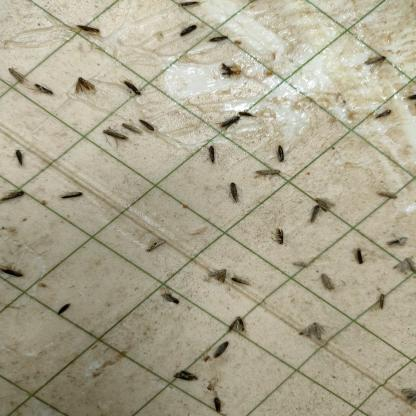prays_oleae: (360, 104, 395, 143), (60, 182, 96, 216), (0, 255, 28, 292), (0, 182, 30, 215), (28, 77, 59, 108), (205, 254, 232, 287), (340, 242, 372, 269), (73, 70, 98, 104), (302, 194, 326, 228), (102, 127, 132, 154), (223, 180, 250, 210), (6, 62, 31, 94), (166, 366, 200, 389), (232, 260, 255, 293), (161, 282, 182, 317), (370, 186, 396, 214), (364, 49, 392, 74), (292, 252, 313, 285), (316, 268, 340, 296), (147, 228, 168, 259), (381, 230, 408, 254), (124, 71, 148, 98), (269, 222, 292, 249), (217, 63, 244, 86), (76, 18, 102, 41), (388, 259, 416, 280), (8, 150, 39, 168), (201, 142, 218, 174), (178, 20, 200, 44), (209, 30, 233, 52), (304, 319, 328, 341), (139, 108, 163, 130), (207, 342, 234, 361), (252, 165, 284, 180), (220, 110, 240, 132), (54, 294, 74, 315), (224, 317, 251, 332), (274, 138, 289, 164), (124, 116, 143, 134)
